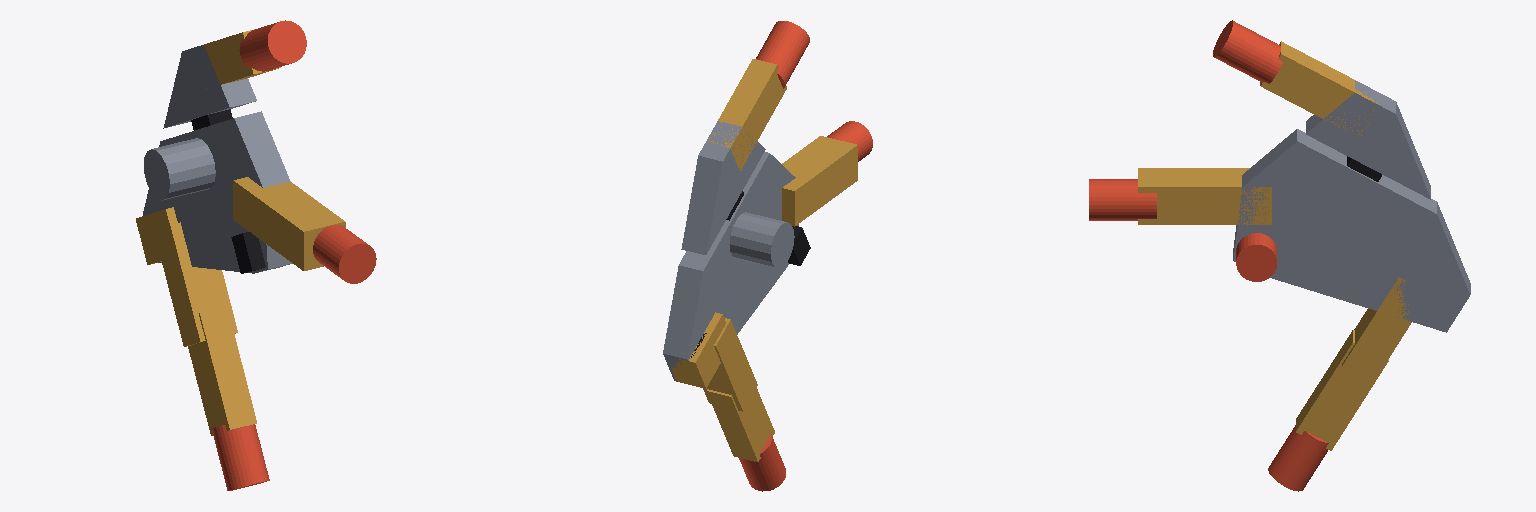
robot.urdf — g0050_c11:
<robot name="g0050_c11">
  <link name="palm">
    <visual name="palm_palm1">
      <origin xyz="0 0 0" rpy="0 0 0" />
      <geometry>
        <mesh filename="palm_palm1.obj" />
      </geometry>
      <material name="palm_palm1_mat">
        <color rgba="0.55 0.57 0.62 1" />
      </material>
    </visual>
    <collision>
      <origin xyz="0 0 0" rpy="0 0 0" />
      <geometry>
        <mesh filename="palm_palm1.obj" />
      </geometry>
    </collision>
    <visual name="palm_mount2">
      <origin xyz="0 0 0" rpy="0 0 0" />
      <geometry>
        <mesh filename="palm_mount2.obj" />
      </geometry>
      <material name="palm_mount2_mat">
        <color rgba="0.55 0.57 0.62 1" />
      </material>
    </visual>
    <collision>
      <origin xyz="0 0 0" rpy="0 0 0" />
      <geometry>
        <mesh filename="palm_mount2.obj" />
      </geometry>
    </collision>
    <visual name="palm_hinge3">
      <origin xyz="0 0.00258974596 0.0244855716" rpy="-1.57079633 0.523598776 1.57079633" />
      <geometry>
        <box size="0.029 0.034 0.02" />
      </geometry>
      <material name="palm_hinge3_mat">
        <color rgba="0.15 0.15 0.17 1" />
      </material>
    </visual>
    <collision>
      <origin xyz="0 0.00258974596 0.0244855716" rpy="-1.57079633 0.523598776 1.57079633" />
      <geometry>
        <box size="0.029 0.034 0.02" />
      </geometry>
    </collision>
    <visual name="palm_motor4">
      <origin xyz="-0.007 -0.08 -0.04" rpy="1.06057524e-16 -1.04719755 1.57079633" />
      <geometry>
        <box size="0.029 0.034 0.02" />
      </geometry>
      <material name="palm_motor4_mat">
        <color rgba="0.15 0.15 0.17 1" />
      </material>
    </visual>
    <collision>
      <origin xyz="-0.007 -0.08 -0.04" rpy="1.06057524e-16 -1.04719755 1.57079633" />
      <geometry>
        <box size="0.029 0.034 0.02" />
      </geometry>
    </collision>
    <visual name="palm_motor5">
      <origin xyz="0 -0.0725 1.37772765e-18" rpy="-0 -1.57079633 0" />
      <geometry>
        <box size="0.029 0.034 0.02" />
      </geometry>
      <material name="palm_motor5_mat">
        <color rgba="0.15 0.15 0.17 1" />
      </material>
    </visual>
    <collision>
      <origin xyz="0 -0.0725 1.37772765e-18" rpy="-0 -1.57079633 0" />
      <geometry>
        <box size="0.029 0.034 0.02" />
      </geometry>
    </collision>
    <visual name="palm_motor6">
      <origin xyz="-0.0045 0.0666996732 -0.0867548095" rpy="1.57079633 -0.523598776 -1.57079633" />
      <geometry>
        <box size="0.029 0.034 0.02" />
      </geometry>
      <material name="palm_motor6_mat">
        <color rgba="0.15 0.15 0.17 1" />
      </material>
    </visual>
    <collision>
      <origin xyz="-0.0045 0.0666996732 -0.0867548095" rpy="1.57079633 -0.523598776 -1.57079633" />
      <geometry>
        <box size="0.029 0.034 0.02" />
      </geometry>
    </collision>
    <inertial>
      <origin xyz="0 -0.00691320376 -0.0298792259" rpy="1.57079633 0.52082684 1.57079633" />
      <mass value="0.794413848" />
      <inertia ixx="0.000732979897" ixy="0" ixz="0" iyy="0.00224017388" iyz="0" izz="0.00289689004" />
    </inertial>
  </link>
  <link name="palm0">
    <visual name="palm0_palm1">
      <origin xyz="0 0 0" rpy="0 0 0" />
      <geometry>
        <mesh filename="palm0_palm1.obj" />
      </geometry>
      <material name="palm0_palm1_mat">
        <color rgba="0.55 0.57 0.62 1" />
      </material>
    </visual>
    <collision>
      <origin xyz="0 0 0" rpy="0 0 0" />
      <geometry>
        <mesh filename="palm0_palm1.obj" />
      </geometry>
    </collision>
    <visual name="palm0_motor2">
      <origin xyz="0 0.000155444566 0.0452692379" rpy="-1.57079633 -1.04719755 1.57079633" />
      <geometry>
        <box size="0.029 0.034 0.02" />
      </geometry>
      <material name="palm0_motor2_mat">
        <color rgba="0.15 0.15 0.17 1" />
      </material>
    </visual>
    <collision>
      <origin xyz="0 0.000155444566 0.0452692379" rpy="-1.57079633 -1.04719755 1.57079633" />
      <geometry>
        <box size="0.029 0.034 0.02" />
      </geometry>
    </collision>
    <inertial>
      <origin xyz="-3.70843297e-19 0.00509908819 0.0267172039" rpy="1.57079633 0.712083912 1.57079633" />
      <mass value="0.166546947" />
      <inertia ixx="3.87576456e-05" ixy="0" ixz="0" iyy="0.000121133008" iyz="0" izz="0.000143902146" />
    </inertial>
  </link>
  <link name="f0_link0">
    <visual name="f0_link0_link1">
      <origin xyz="0.019 0 -6.9388939e-18" rpy="-1.57079633 -0 -1.57079633" />
      <geometry>
        <cylinder radius="0.0165" length="0.029" />
      </geometry>
      <material name="f0_link0_link1_mat">
        <color rgba="0.85 0.35 0.25 1" />
      </material>
    </visual>
    <collision>
      <origin xyz="0.019 0 -6.9388939e-18" rpy="-1.57079633 -0 -1.57079633" />
      <geometry>
        <cylinder radius="0.0165" length="0.029" />
      </geometry>
    </collision>
    <inertial>
      <origin xyz="0.019 0 0" rpy="0 0 0" />
      <mass value="0.0763354" />
      <inertia ixx="9.49466441e-06" ixy="0" ixz="0" iyy="2.24143997e-05" iyz="0" izz="2.24143997e-05" />
    </inertial>
  </link>
  <link name="f1_link0">
    <visual name="f1_link0_link1">
      <origin xyz="0.04125 -0.00625 0" rpy="0 -0 0" />
      <geometry>
        <box size="0.1065 0.0365 0.033" />
      </geometry>
      <material name="f1_link0_link1_mat">
        <color rgba="0.80 0.62 0.30 1" />
      </material>
    </visual>
    <collision>
      <origin xyz="0.04125 -0.00625 0" rpy="0 -0 0" />
      <geometry>
        <box size="0.1065 0.0365 0.033" />
      </geometry>
    </collision>
    <inertial>
      <origin xyz="0.04125 -0.00625 0" rpy="0 0 0" />
      <mass value="0.224488688" />
      <inertia ixx="4.52952696e-05" ixy="0" ixz="0" iyy="0.00023255625" iyz="0" izz="0.000237106822" />
    </inertial>
  </link>
  <link name="f1_link1">
    <visual name="f1_link1_link1">
      <origin xyz="0.02675 0 0" rpy="-1.57079633 -0 -1.57079633" />
      <geometry>
        <cylinder radius="0.0165" length="0.0535" />
      </geometry>
      <material name="f1_link1_link1_mat">
        <color rgba="0.85 0.35 0.25 1" />
      </material>
    </visual>
    <collision>
      <origin xyz="0.02675 0 0" rpy="-1.57079633 -0 -1.57079633" />
      <geometry>
        <cylinder radius="0.0165" length="0.0535" />
      </geometry>
    </collision>
    <inertial>
      <origin xyz="0.02675 0 0" rpy="0 0 0" />
      <mass value="0.113006328" />
      <inertia ixx="1.44864944e-05" ixy="0" ixz="0" iyy="6.25996244e-05" iyz="0" izz="6.25996244e-05" />
    </inertial>
  </link>
  <link name="f2_link0">
    <visual name="f2_link0_link1">
      <origin xyz="0.03375 0 0" rpy="0 7.03853194e-17 0" />
      <geometry>
        <box size="0.0915 0.024 0.033" />
      </geometry>
      <material name="f2_link0_link1_mat">
        <color rgba="0.80 0.62 0.30 1" />
      </material>
    </visual>
    <collision>
      <origin xyz="0.03375 0 0" rpy="0 7.03853194e-17 0" />
      <geometry>
        <box size="0.0915 0.024 0.033" />
      </geometry>
    </collision>
    <inertial>
      <origin xyz="0.03375 0 0" rpy="0 0 0" />
      <mass value="0.126819" />
      <inertia ixx="1.75961363e-05" ixy="0" ixz="0" iyy="9.99888553e-05" iyz="0" izz="9.45673431e-05" />
    </inertial>
  </link>
  <link name="f2_link1">
    <visual name="f2_link1_link1">
      <origin xyz="0.029 0 -6.9388939e-18" rpy="-1.57079633 -0 -1.57079633" />
      <geometry>
        <cylinder radius="0.0165" length="0.049" />
      </geometry>
      <material name="f2_link1_link1_mat">
        <color rgba="0.85 0.35 0.25 1" />
      </material>
    </visual>
    <collision>
      <origin xyz="0.029 0 -6.9388939e-18" rpy="-1.57079633 -0 -1.57079633" />
      <geometry>
        <cylinder radius="0.0165" length="0.049" />
      </geometry>
    </collision>
    <inertial>
      <origin xyz="0.029 0 0" rpy="0 0 0" />
      <mass value="0.106270851" />
      <inertia ixx="1.35696277e-05" ixy="0" ixz="0" iyy="5.30015704e-05" iyz="0" izz="5.30015704e-05" />
    </inertial>
  </link>
  <link name="f3_link0">
    <visual name="f3_link0_link1">
      <origin xyz="-0.00625 0 -0.0165" rpy="0 4.06369831e-17 0" />
      <geometry>
        <box size="0.0365 0.029 0.053" />
      </geometry>
      <material name="f3_link0_link1_mat">
        <color rgba="0.80 0.62 0.30 1" />
      </material>
    </visual>
    <collision>
      <origin xyz="-0.00625 0 -0.0165" rpy="0 4.06369831e-17 0" />
      <geometry>
        <box size="0.0365 0.029 0.053" />
      </geometry>
    </collision>
    <inertial>
      <origin xyz="-0.00625 0 -0.0165" rpy="0 0 0" />
      <mass value="0.098175875" />
      <inertia ixx="2.98618286e-05" ixy="0" ixz="0" iyy="3.38809035e-05" iyz="0" izz="1.778006e-05" />
    </inertial>
  </link>
  <link name="f3_link1">
    <visual name="f3_link1_link1">
      <origin xyz="0.03375 0 0" rpy="0 4.06369831e-17 0" />
      <geometry>
        <box size="0.0915 0.033 0.029" />
      </geometry>
      <material name="f3_link1_link1_mat">
        <color rgba="0.80 0.62 0.30 1" />
      </material>
    </visual>
    <collision>
      <origin xyz="0.03375 0 0" rpy="0 4.06369831e-17 0" />
      <geometry>
        <box size="0.0915 0.033 0.029" />
      </geometry>
    </collision>
    <inertial>
      <origin xyz="0.03375 0 0" rpy="0 0 0" />
      <mass value="0.153239625" />
      <inertia ixx="2.46460397e-05" ixy="0" ixz="0" iyy="0.000117652915" iyz="0" izz="0.000120819867" />
    </inertial>
  </link>
  <link name="f3_link2">
    <visual name="f3_link2_link1">
      <origin xyz="0.03375 0 0" rpy="0 4.06369831e-17 0" />
      <geometry>
        <box size="0.0915 0.024 0.033" />
      </geometry>
      <material name="f3_link2_link1_mat">
        <color rgba="0.80 0.62 0.30 1" />
      </material>
    </visual>
    <collision>
      <origin xyz="0.03375 0 0" rpy="0 4.06369831e-17 0" />
      <geometry>
        <box size="0.0915 0.024 0.033" />
      </geometry>
    </collision>
    <inertial>
      <origin xyz="0.03375 0 0" rpy="0 0 0" />
      <mass value="0.126819" />
      <inertia ixx="1.75961363e-05" ixy="0" ixz="0" iyy="9.99888553e-05" iyz="0" izz="9.45673431e-05" />
    </inertial>
  </link>
  <link name="f3_link3">
    <visual name="f3_link3_link1">
      <origin xyz="0.029 0 0" rpy="-1.57079633 -0 -1.57079633" />
      <geometry>
        <cylinder radius="0.0165" length="0.049" />
      </geometry>
      <material name="f3_link3_link1_mat">
        <color rgba="0.85 0.35 0.25 1" />
      </material>
    </visual>
    <collision>
      <origin xyz="0.029 0 0" rpy="-1.57079633 -0 -1.57079633" />
      <geometry>
        <cylinder radius="0.0165" length="0.049" />
      </geometry>
    </collision>
    <inertial>
      <origin xyz="0.029 0 0" rpy="0 0 0" />
      <mass value="0.106270851" />
      <inertia ixx="1.35696277e-05" ixy="0" ixz="0" iyy="5.30015704e-05" iyz="0" izz="5.30015704e-05" />
    </inertial>
  </link>
  <joint name="palm0_joint" type="revolute">
    <parent link="palm" />
    <child link="palm0" />
    <origin xyz="0 0.00633974596 0.0309807621" rpy="0 0 0" />
    <axis xyz="0 0.866025404 -0.5" />
    <limit effort="0.5" lower="-0.523598776" upper="0.523598776" velocity="5" />
    <dynamics damping="0.0775033" friction="0" />
  </joint>
  <joint name="f0_j0" type="revolute">
    <parent link="palm" />
    <child link="f0_link0" />
    <origin xyz="0.0005 -0.08 -0.04" rpy="1.04719755 5.30287619e-17 -3.061617e-17" />
    <axis xyz="0 1 6.123234e-17" />
    <limit effort="0.5" lower="-0.523598776" upper="0.523598776" velocity="5" />
    <dynamics damping="0.0775033" friction="0" />
  </joint>
  <joint name="f1_j0" type="revolute">
    <parent link="palm" />
    <child link="f1_link0" />
    <origin xyz="0 -0.08 0" rpy="0 1.8369702e-16 -1.57079633" />
    <axis xyz="0 0 1" />
    <limit effort="0.5" lower="-0.523598776" upper="1.57079633" velocity="5" />
    <dynamics damping="0.0775033" friction="0" />
  </joint>
  <joint name="f1_j1" type="revolute">
    <parent link="f1_link0" />
    <child link="f1_link1" />
    <origin xyz="0.08 0 0" rpy="0 0 0" />
    <axis xyz="1 0 6.123234e-17" />
    <limit effort="0.5" lower="-1.57079633" upper="1.57079633" velocity="5" />
    <dynamics damping="0.0775033" friction="0" />
  </joint>
  <joint name="f2_j0" type="revolute">
    <parent link="palm0" />
    <child link="f2_link0" />
    <origin xyz="0 -0.00633974596 0.0490192379" rpy="-0 -0.523598776 -1.57079633" />
    <axis xyz="0 0 1" />
    <limit effort="0.5" lower="-0.523598776" upper="1.57079633" velocity="5" />
    <dynamics damping="0.0775033" friction="0" />
  </joint>
  <joint name="f2_j1" type="revolute">
    <parent link="f2_link0" />
    <child link="f2_link1" />
    <origin xyz="0.07 0 0" rpy="0 0 0" />
    <axis xyz="0 0 1" />
    <limit effort="0.5" lower="-0.523598776" upper="1.57079633" velocity="5" />
    <dynamics damping="0.0775033" friction="0" />
  </joint>
  <joint name="f3_j0" type="revolute">
    <parent link="palm" />
    <child link="f3_link0" />
    <origin xyz="-0.0045 0.04 -0.08" rpy="0 1.04719755 -1.57079633" />
    <axis xyz="0 0 1" />
    <limit effort="0.5" lower="-0.523598776" upper="1.57079633" velocity="5" />
    <dynamics damping="0.0775033" friction="0" />
  </joint>
  <joint name="f3_j1" type="revolute">
    <parent link="f3_link0" />
    <child link="f3_link1" />
    <origin xyz="0 0 0" rpy="0 0 0" />
    <axis xyz="0 1 6.123234e-17" />
    <limit effort="0.5" lower="-0.523598776" upper="0.523598776" velocity="5" />
    <dynamics damping="0.0775033" friction="0" />
  </joint>
  <joint name="f3_j2" type="revolute">
    <parent link="f3_link1" />
    <child link="f3_link2" />
    <origin xyz="0.07 0 0" rpy="0 0 0" />
    <axis xyz="0 0 1" />
    <limit effort="0.5" lower="-0.523598776" upper="1.57079633" velocity="5" />
    <dynamics damping="0.0775033" friction="0" />
  </joint>
  <joint name="f3_j3" type="revolute">
    <parent link="f3_link2" />
    <child link="f3_link3" />
    <origin xyz="0.07 0 0" rpy="0 0 0" />
    <axis xyz="0 0 1" />
    <limit effort="0.5" lower="-0.523598776" upper="1.57079633" velocity="5" />
    <dynamics damping="0.0775033" friction="0" />
  </joint>
</robot>

--- What the picture shows (computed from the rendered views, not written in the file) ---
Views: 3 orthographic renders of the robot side by side, from view 1: azimuth 30°, elevation 25°; view 2: azimuth 150°, elevation 25°; view 3: azimuth 270°, elevation 25°.
Model g0050_c11 with 11 links and 10 joints (10 revolute), rooted at palm, posed every joint at zero.
Visible links, largest first — view 1: palm, f1_link0, f3_link2, f3_link1, palm0, f3_link3, f2_link1, f1_link1, f2_link0, f3_link0; view 2: palm, palm0, f1_link0, f2_link0, f3_link2, f3_link1, f2_link1, f3_link0, f3_link3, f1_link1; view 3: palm, palm0, f1_link0, f3_link2, f2_link0, f3_link1, f2_link1, f1_link1, f3_link3, f0_link0.
Link boxes in pixels (x1,y1,x2,y2): palm: [143, 109, 292, 273]; f1_link0: [233, 177, 345, 270]; f3_link2: [188, 306, 256, 435]; f3_link1: [154, 222, 237, 346]; palm0: [163, 45, 256, 128]; f3_link3: [212, 424, 269, 490]; f2_link1: [239, 20, 306, 71]; f1_link1: [313, 225, 376, 283]; f2_link0: [204, 29, 280, 88]; f3_link0: [136, 207, 177, 264]; palm: [663, 152, 810, 380]; palm0: [681, 121, 765, 254]; f1_link0: [782, 136, 857, 226]; f2_link0: [707, 59, 786, 170]; f3_link2: [707, 388, 774, 461]; f3_link1: [703, 318, 757, 411]; f2_link1: [756, 21, 809, 88]; f3_link0: [671, 312, 725, 388]; f3_link3: [739, 434, 785, 491]; f1_link1: [827, 121, 872, 161]; palm: [1233, 129, 1470, 332]; palm0: [1306, 80, 1430, 199]; f1_link0: [1138, 168, 1271, 224]; f3_link2: [1296, 330, 1388, 450]; f2_link0: [1260, 41, 1379, 135]; f3_link1: [1342, 277, 1411, 382]; f2_link1: [1213, 20, 1282, 83]; f1_link1: [1089, 179, 1156, 220]; f3_link3: [1268, 425, 1328, 491]; f0_link0: [1236, 233, 1276, 281].
Size in the robot's own frame: 0.086 by 0.304 by 0.4119 metres.
Meshes: 3 distinct files referenced, 3 mesh visuals loaded (3 OBJ).
